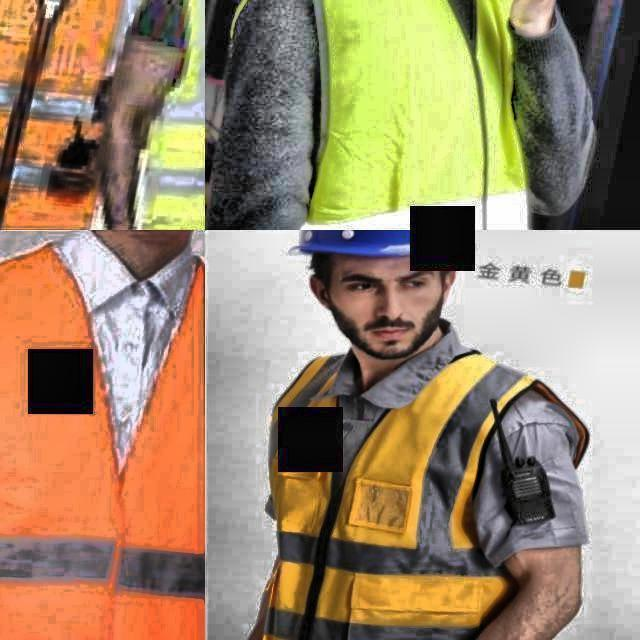safety_jacket: (236, 339, 542, 640), (218, 0, 598, 230), (0, 230, 205, 640), (0, 0, 162, 230), (142, 0, 205, 230)
